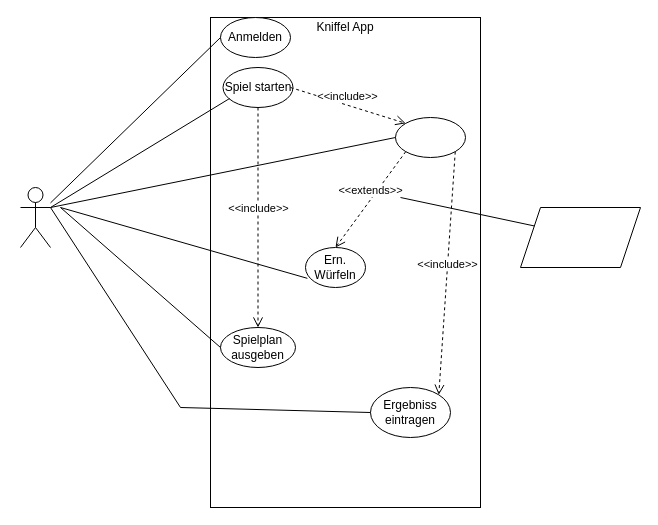
Image size: 658x525. Some labels were removed from this diagram. Each missing label, with the centre of its shape:
con: Zahl ungewünscht: (580,237)
Spieler: (35,217)
Würfeln: (430,137)
